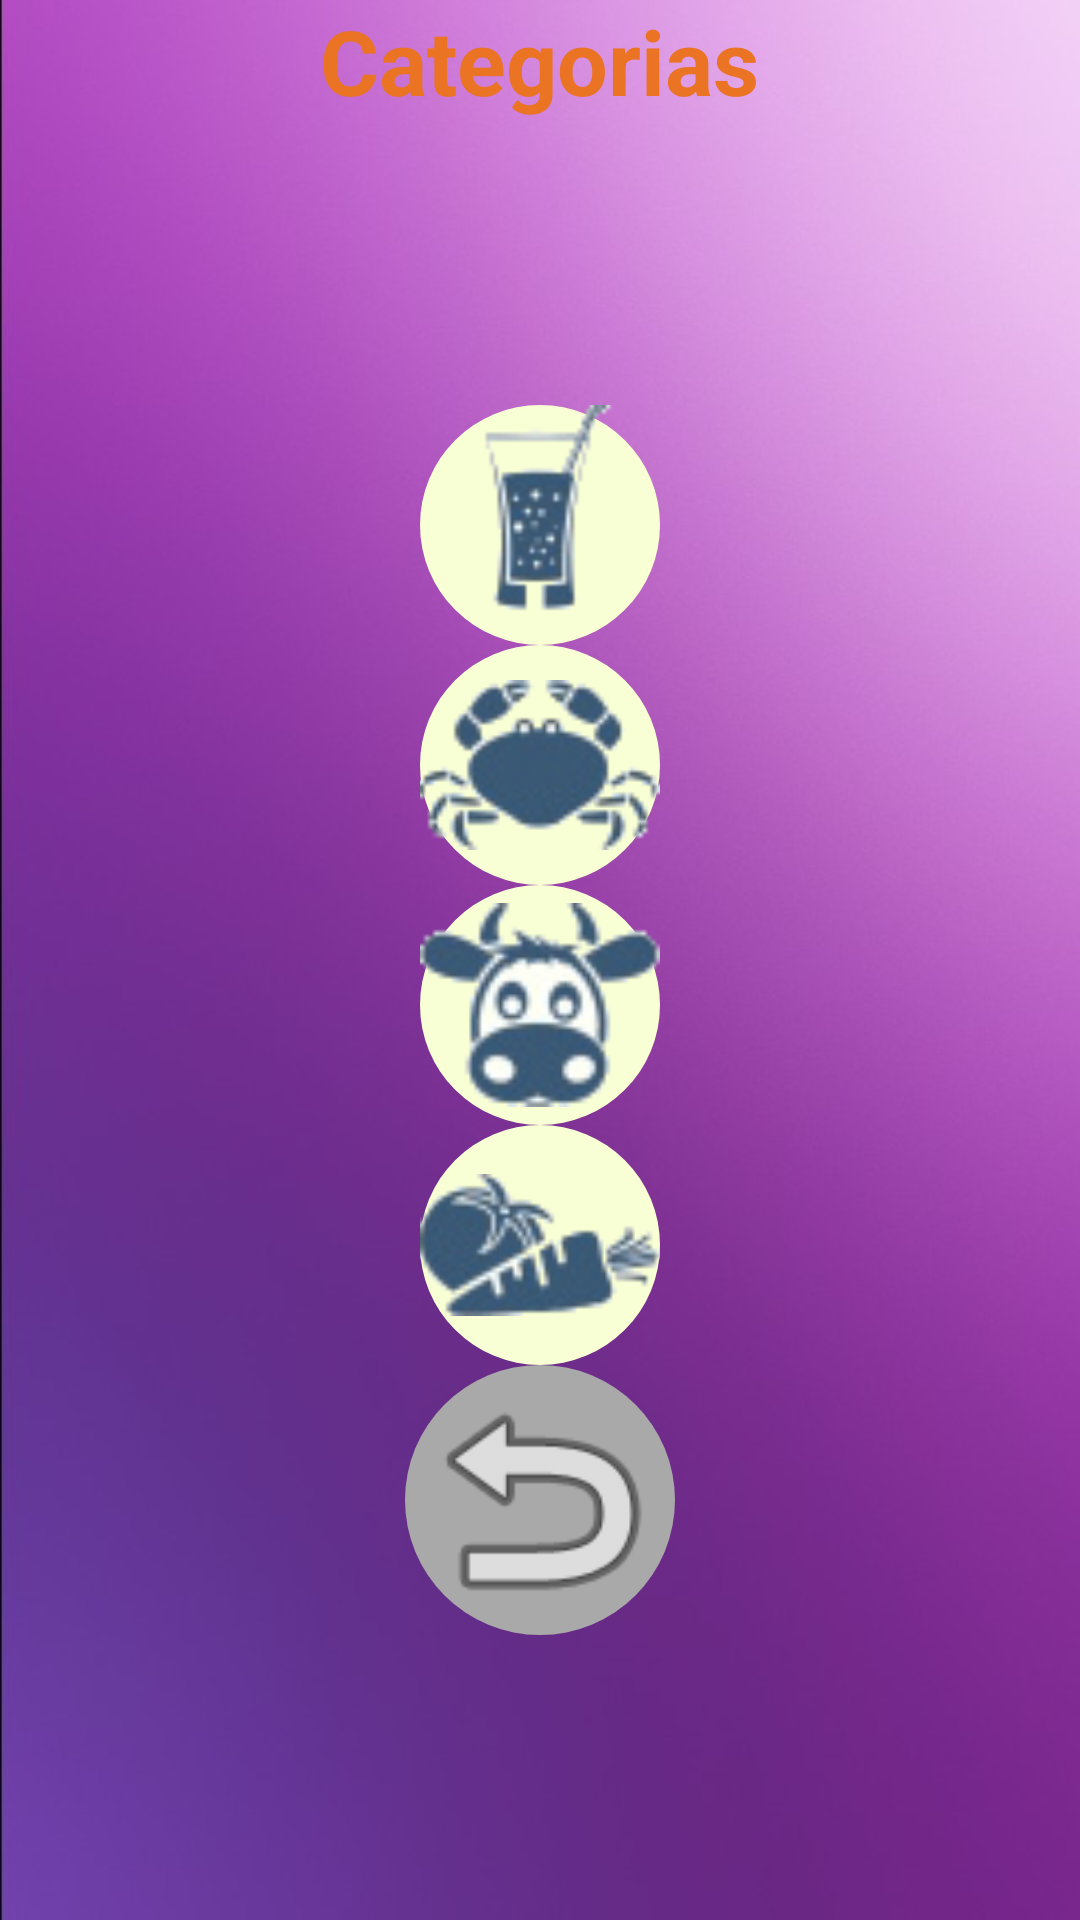

Point at icon controls on the screen. Image size 1080px x 1920px, points as point (x, y).
baquita: point (540, 1005)
bebida: point (540, 525)
cangrejo: point (540, 765)
revert: point (540, 1500)
